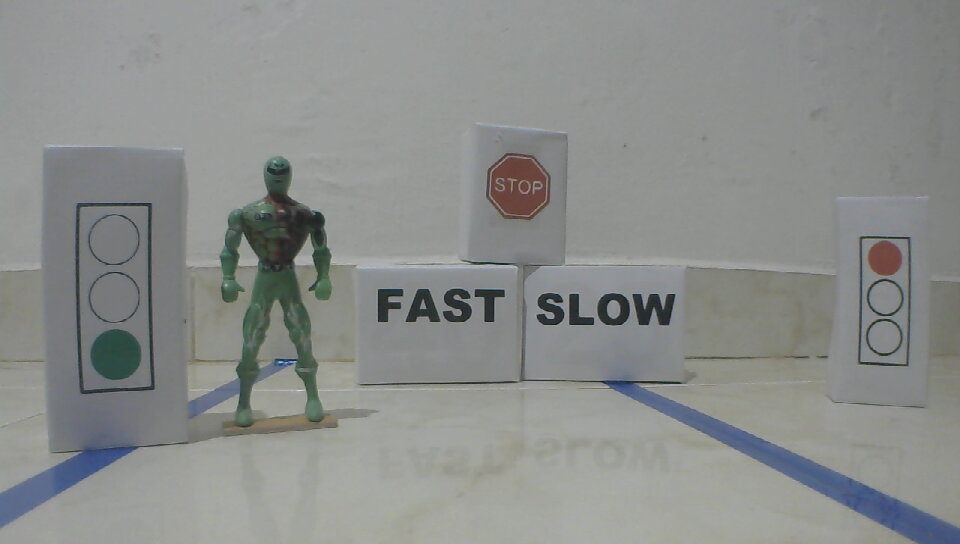Fast: (373, 283, 507, 325)
Green Traffic Light: (73, 200, 158, 396)
Person: (218, 155, 335, 429)
Red Traffic Light: (856, 234, 914, 369)
Slow: (535, 292, 679, 329)
Stop Sign: (486, 152, 552, 220)
